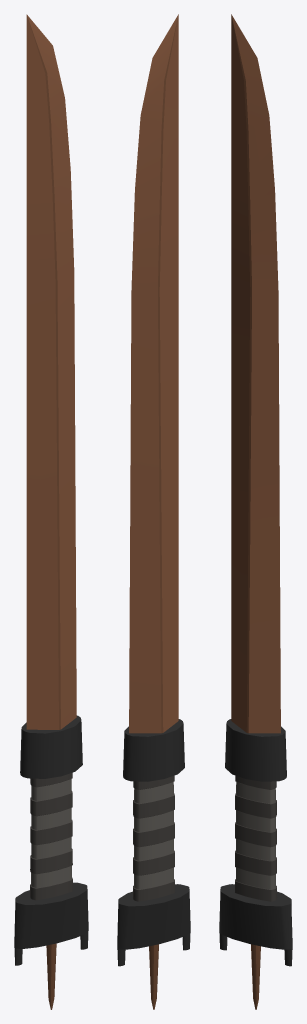
File: SM_Sword02_Belawa_4Bronze.fbx
3 views of the same model, side by side, from view 1: azimuth 30°, elevation 25°; view 2: azimuth 210°, elevation 25°; view 3: azimuth 330°, elevation 25° (orthographic).
Visible parts, largest first — view 1: Cube.371, Cube.372, Cylinder.505, Cylinder.504, Cylinder.507, Cylinder.506; view 2: Cube.371, Cube.372, Cylinder.505, Cylinder.504, Cylinder.507, Cylinder.506; view 3: Cube.371, Cube.372, Cylinder.505, Cylinder.504, Cylinder.507, Cylinder.506.
Part boxes in pixels (left/top/right/bottom): Cube.371: left=26, top=14, right=76, bottom=729; Cube.372: left=30, top=772, right=72, bottom=900; Cylinder.505: left=14, top=882, right=88, bottom=948; Cylinder.504: left=20, top=715, right=82, bottom=778; Cylinder.507: left=46, top=943, right=56, bottom=1009; Cylinder.506: left=14, top=932, right=88, bottom=965; Cube.371: left=129, top=14, right=178, bottom=733; Cube.372: left=133, top=775, right=174, bottom=901; Cylinder.505: left=117, top=884, right=190, bottom=949; Cylinder.504: left=123, top=719, right=184, bottom=781; Cylinder.507: left=149, top=944, right=158, bottom=1009; Cylinder.506: left=117, top=932, right=190, bottom=966; Cube.371: left=231, top=14, right=280, bottom=733; Cube.372: left=235, top=775, right=276, bottom=901; Cylinder.505: left=219, top=884, right=292, bottom=949; Cylinder.504: left=225, top=719, right=286, bottom=781; Cylinder.507: left=251, top=944, right=260, bottom=1009; Cylinder.506: left=219, top=932, right=292, bottom=966.
Bounding box in the file's own units: 0.0591 × 0.7664 × 0.0281.
